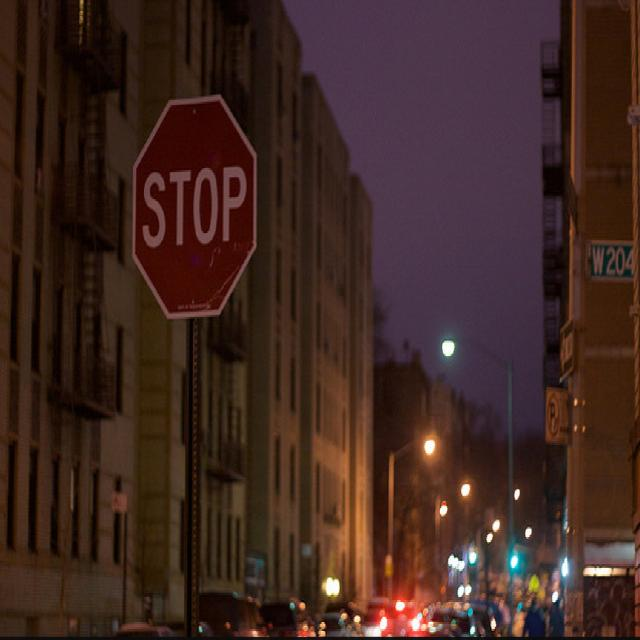STOP: (130, 96, 262, 319)
